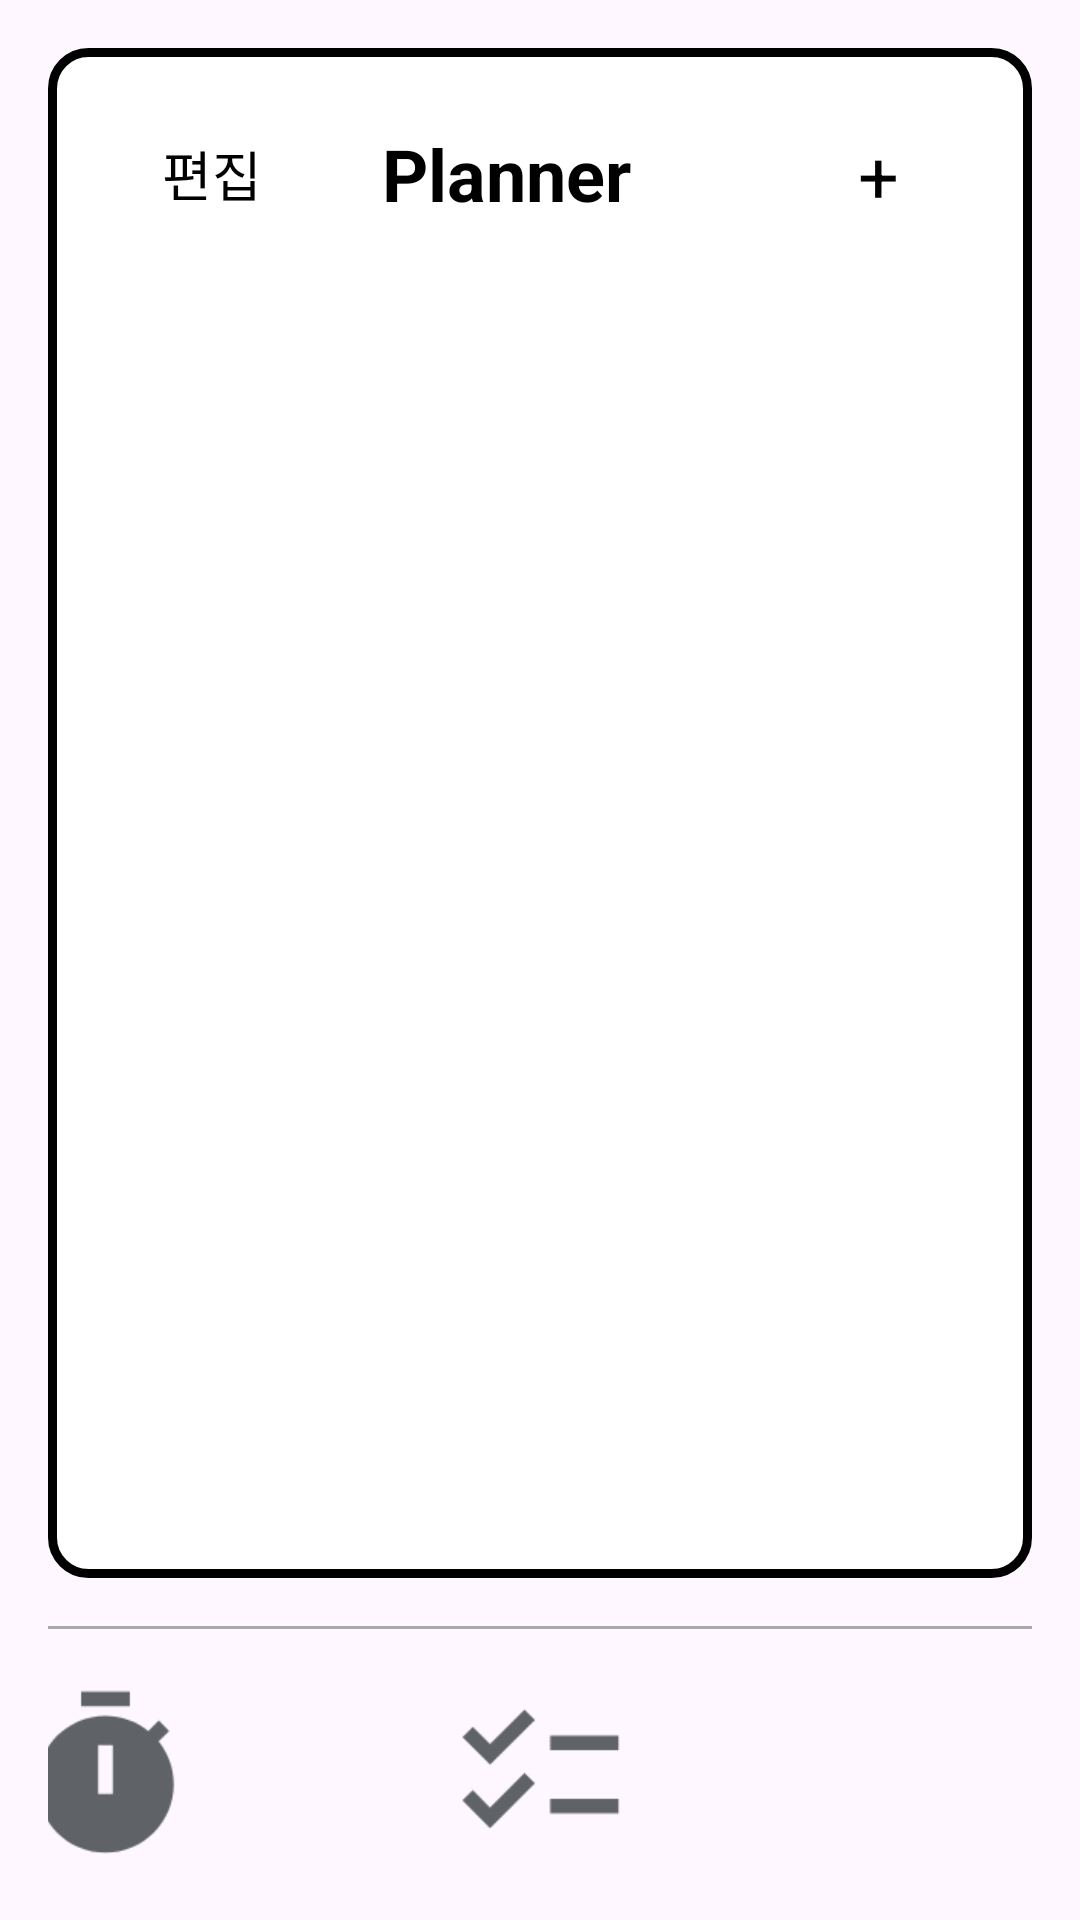

Icons on this 1080px x 1920px Android screen, each with its box as {"left": x1, "top": y1, "right": x2, "bottom": y2}:
Planner: {"left": 462, "top": 1709, "right": 619, "bottom": 1828}
